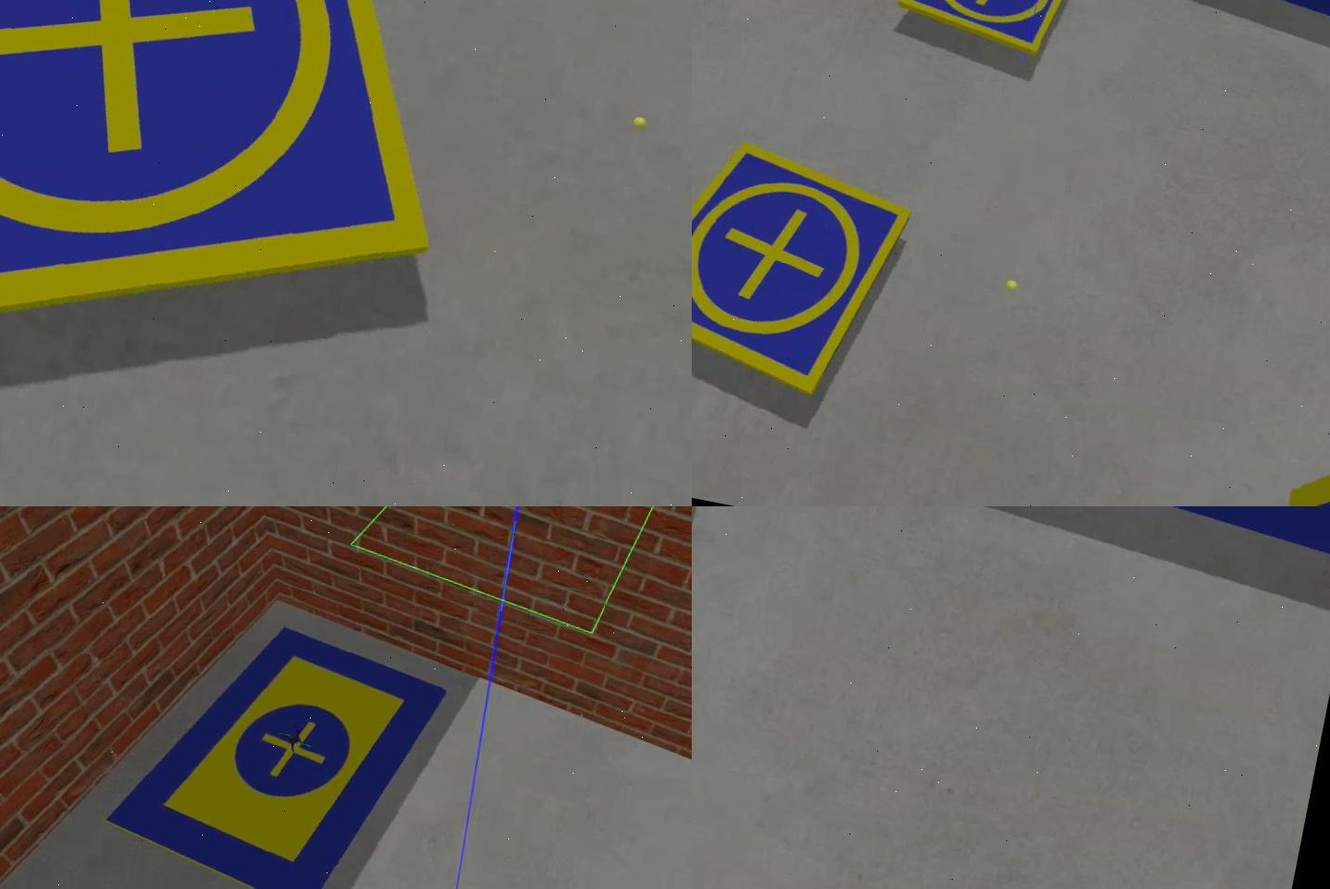large_base: (92, 599, 453, 889)
small_base: (0, 1, 505, 449), (690, 120, 918, 406), (891, 1, 1082, 63)
